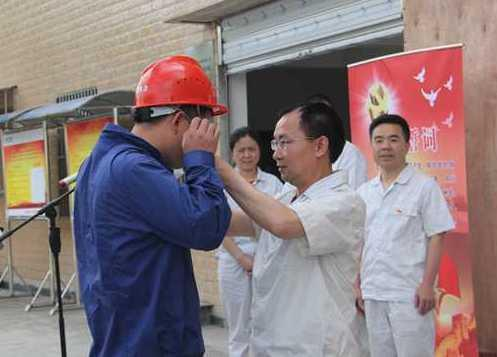helmet: (139, 59, 224, 113)
no-gloves: (178, 123, 223, 156), (420, 280, 445, 315), (242, 249, 263, 274)
no-helmet: (280, 100, 353, 147), (369, 112, 422, 147), (226, 125, 267, 150)
no-vest: (70, 141, 195, 357), (252, 180, 374, 354), (352, 173, 438, 312), (225, 182, 279, 298), (335, 146, 365, 206)
person: (47, 63, 225, 357), (244, 91, 368, 357), (361, 108, 458, 357), (220, 126, 283, 357), (301, 89, 372, 185)
